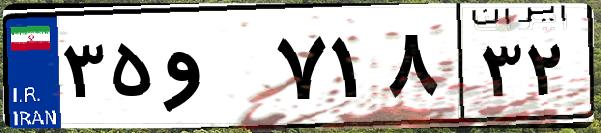1: (330, 28, 385, 110)
2: (525, 38, 570, 115)
3: (57, 26, 110, 100), (475, 38, 525, 113)
5: (110, 28, 158, 98)
7: (270, 28, 330, 110)
8: (385, 28, 445, 110)
و: (158, 20, 270, 120)
